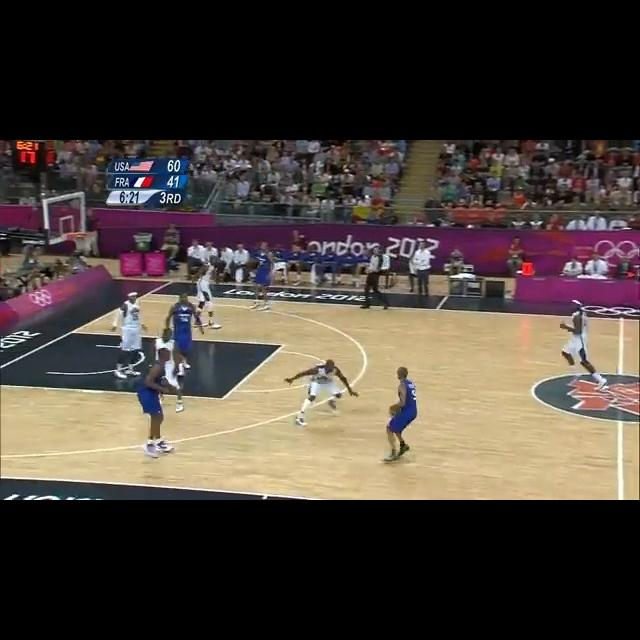basketball: (389, 403, 402, 417)
hoop: (67, 234, 98, 255)
person: (410, 241, 436, 295)
